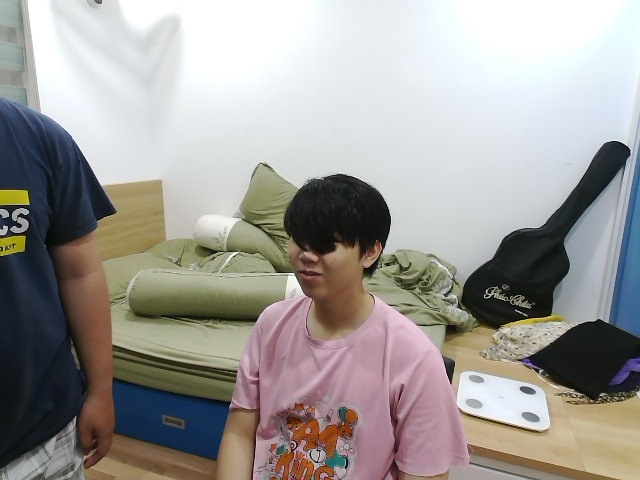face: (284, 174, 391, 298)
